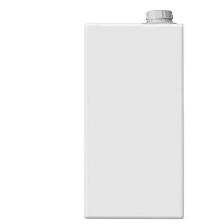carton: (71, 5, 189, 221)
